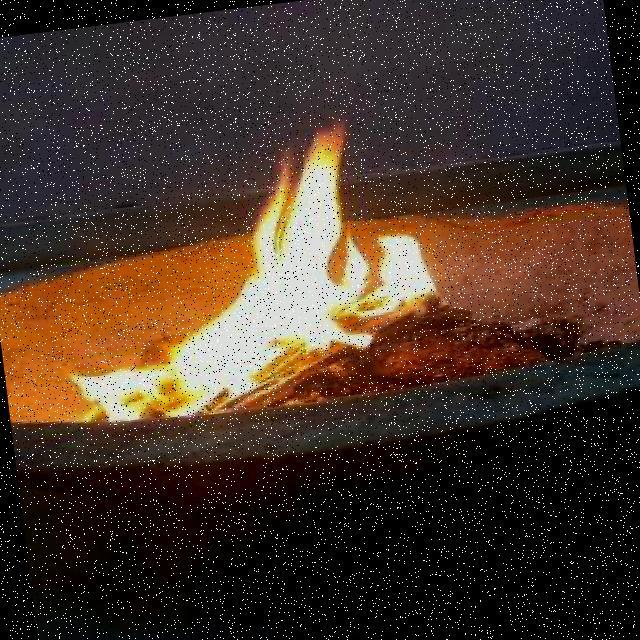Fire: (60, 114, 445, 429)
